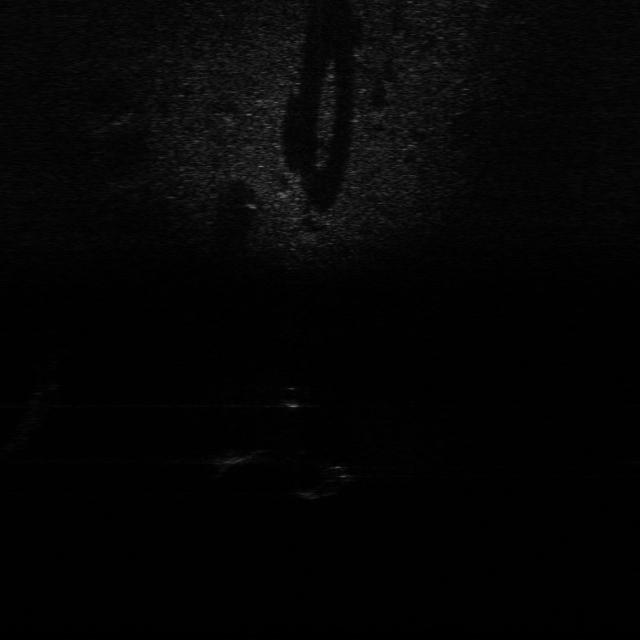ball: (280, 384, 310, 410)
square cage: (213, 445, 272, 473)
tyre: (294, 462, 356, 500)
